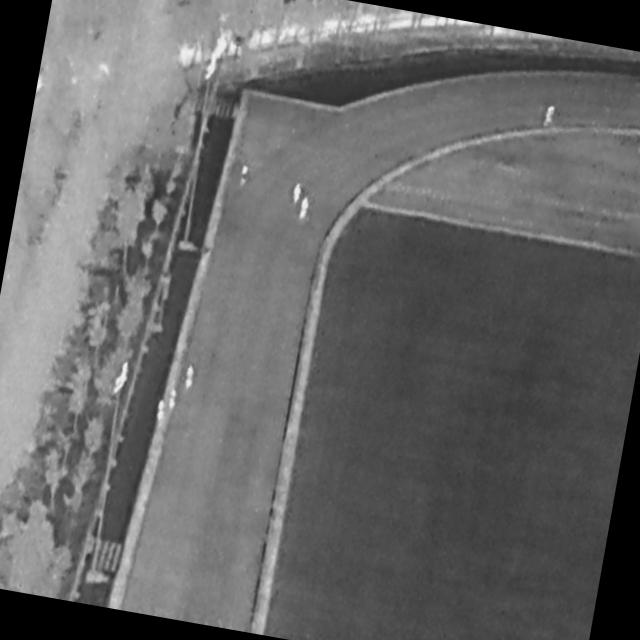person: (183, 365, 196, 391), (298, 196, 310, 222), (167, 389, 179, 413), (156, 399, 168, 423), (545, 106, 557, 127), (292, 184, 303, 206), (239, 165, 249, 187)
